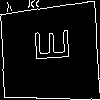E: (25, 27, 69, 63)
